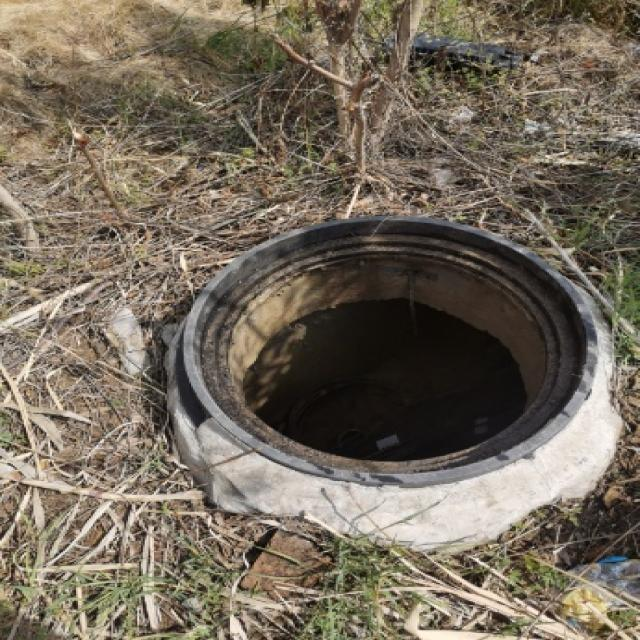Uncovered: (155, 203, 630, 497)
